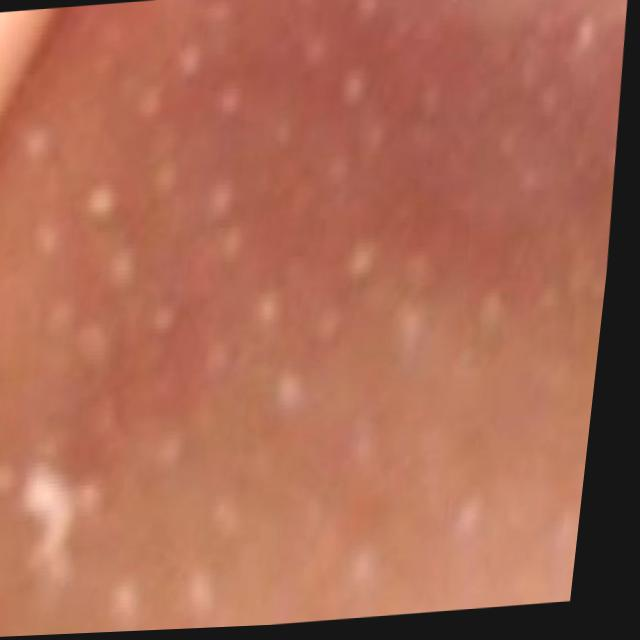whitehead: (0, 0, 555, 637)
